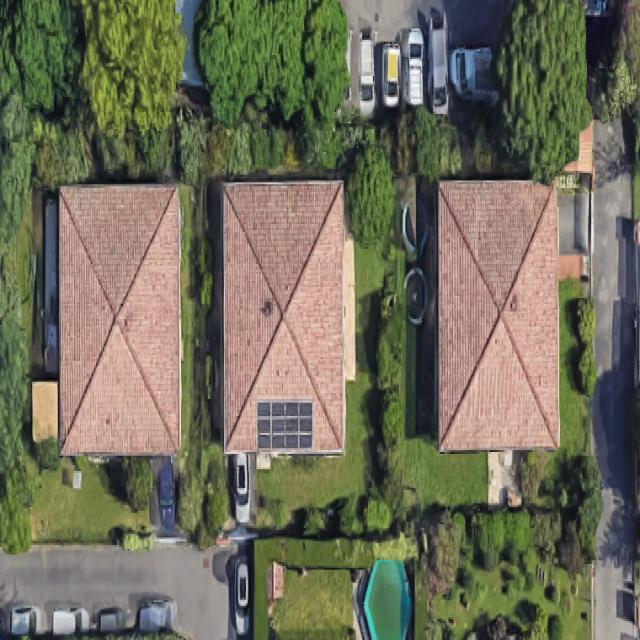maison: (219, 181, 347, 451), (55, 184, 179, 454), (435, 182, 558, 450)
